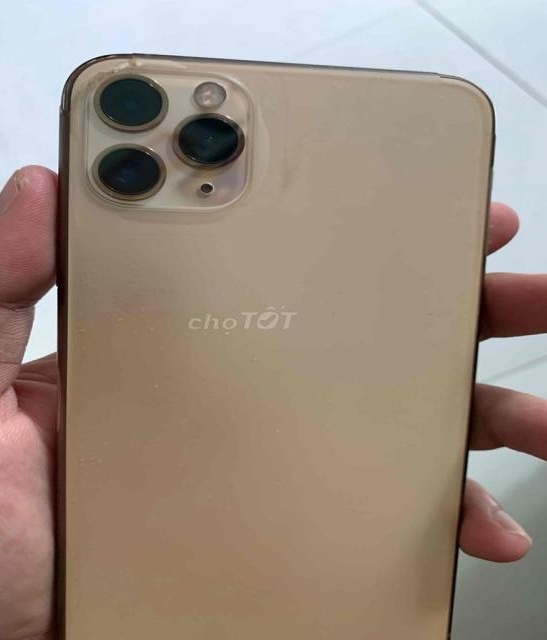scratch: (54, 43, 203, 117)
